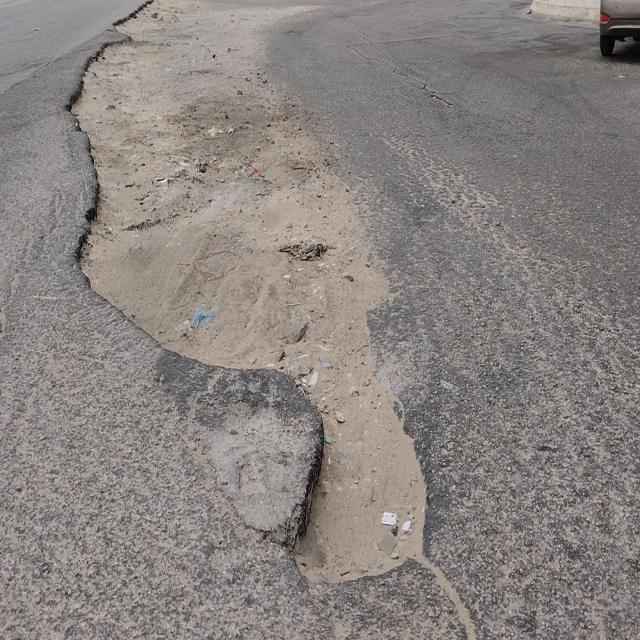Pothole: (287, 390, 434, 588), (73, 195, 162, 333), (64, 80, 107, 143), (96, 36, 136, 66)
